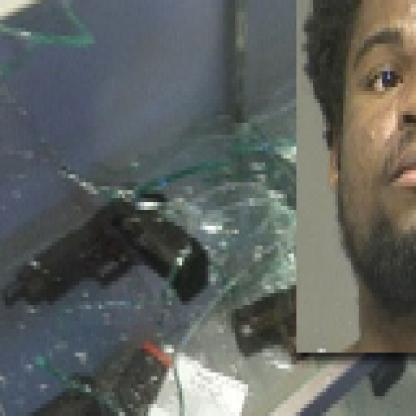gun: (0, 170, 221, 337), (221, 274, 296, 364)
